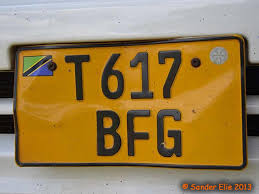T: (63, 51, 94, 107)
